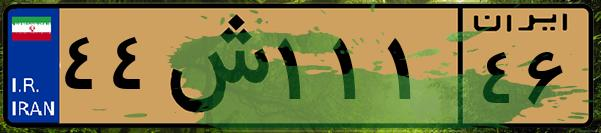1: (270, 28, 330, 110), (385, 28, 445, 110), (330, 28, 385, 110)
4: (57, 26, 110, 100), (475, 38, 525, 113), (110, 28, 158, 98)
6: (525, 38, 570, 115)
ش: (158, 12, 270, 120)
